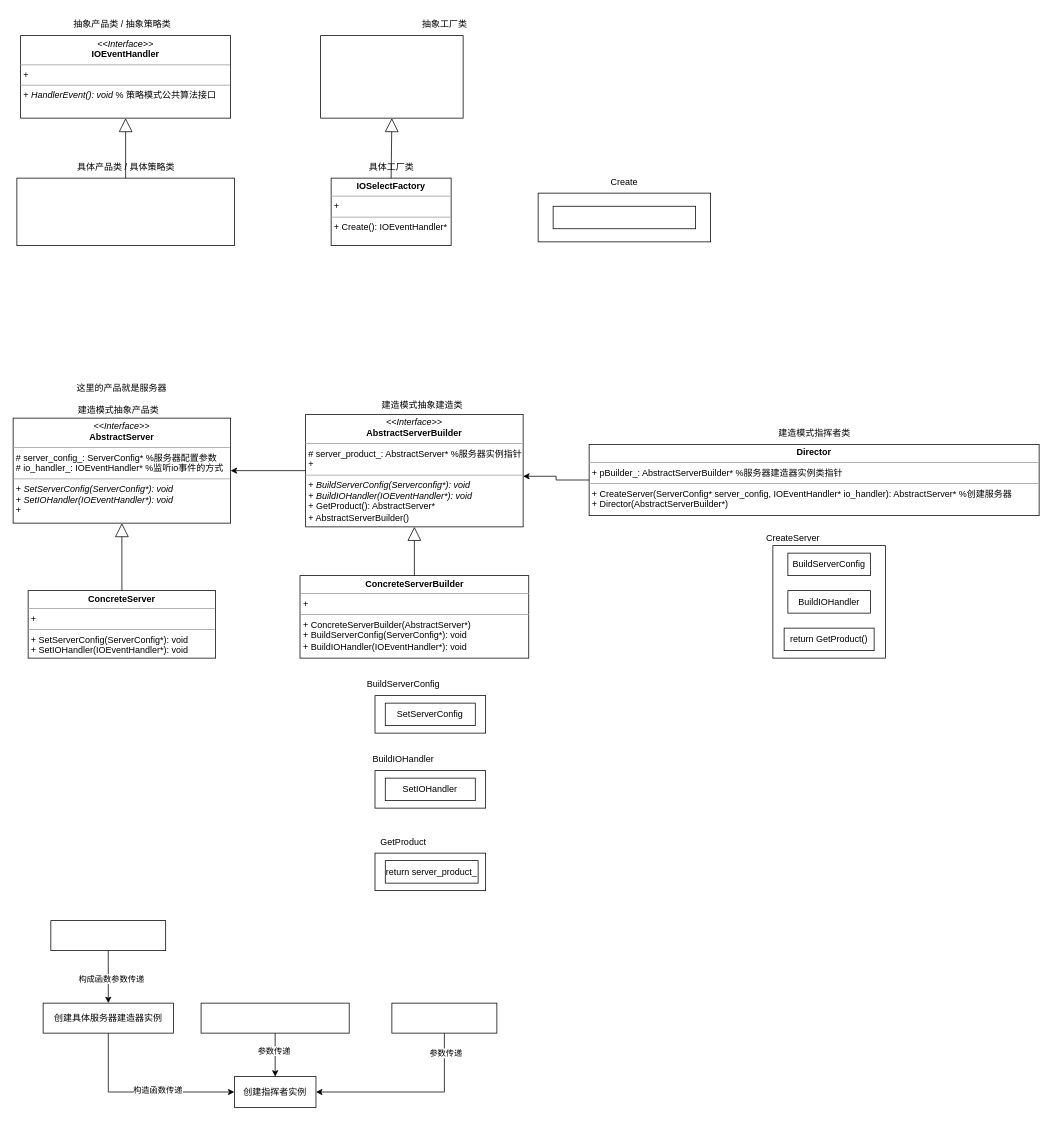
Image size: 1052x1121. Some labels were removed from this diagram. The centre of each missing label's shape, as x and y in pixels:
"<<Interface>> IOFactoryHandler + + Create(): IOEventHandler*" belongs at point 391,76.
"IOSelectHandler + + HandleEvent ():void % 策略模式具体算法接口" belongs at point 125,211.
"return new IOSelectHandler()" belongs at point 624,217.
"创建io监听事件的具体工厂实例" belongs at point 274,1017.
"创建具体的服务器产品类" belongs at point 108,935.
"创建服务器配置参数类" belongs at point 444,1017.
